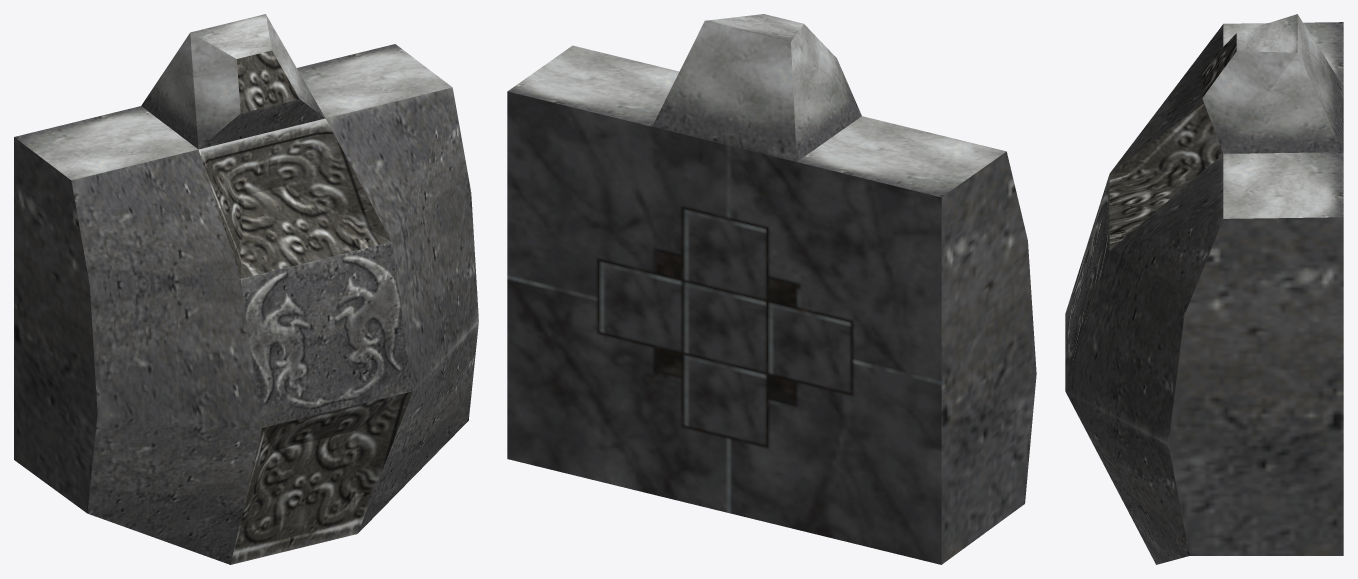
The picture shows the model from 3 angles, left to right: view 1: azimuth 30°, elevation 25°; view 2: azimuth 150°, elevation 25°; view 3: azimuth 270°, elevation 25°; orthographic projection. The views are drawn at different scales.
Visible parts, largest first — view 1: a35; view 2: a35; view 3: a35.
Part boxes in pixels (<box>): a35: <box>14,14,478,564</box>; a35: <box>507,14,1036,564</box>; a35: <box>1065,14,1343,564</box>.
Bounding box in the file's own units: 762 × 910 × 459.
